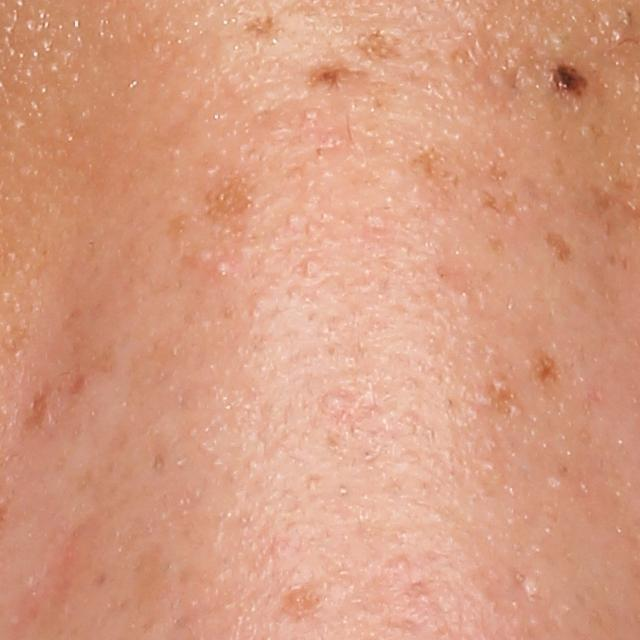atrophic_scar: (12, 515, 125, 638), (450, 7, 543, 128), (510, 568, 540, 601)
comedo: (320, 392, 344, 414), (212, 261, 243, 278), (298, 107, 325, 126)
melasma: (11, 304, 121, 449), (474, 171, 538, 257), (407, 141, 471, 197), (130, 546, 179, 614), (204, 168, 259, 224), (466, 371, 524, 417), (545, 229, 581, 264), (533, 351, 562, 389)
nevus: (550, 64, 588, 104)
